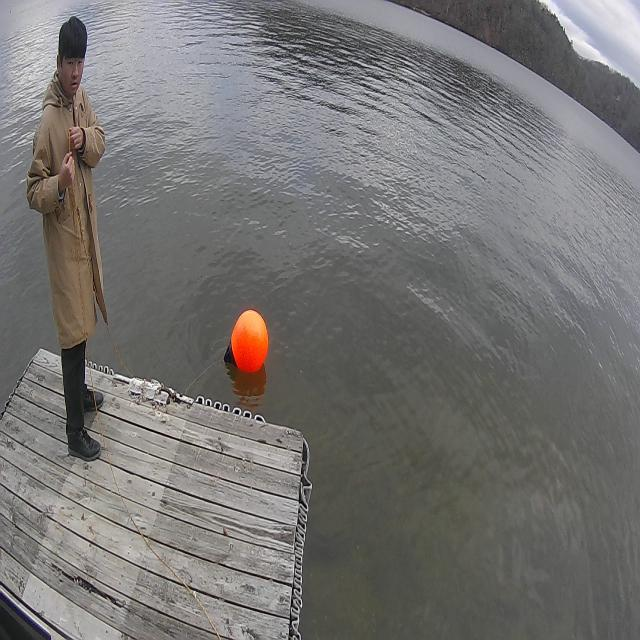Buoy: (228, 309, 270, 375)
